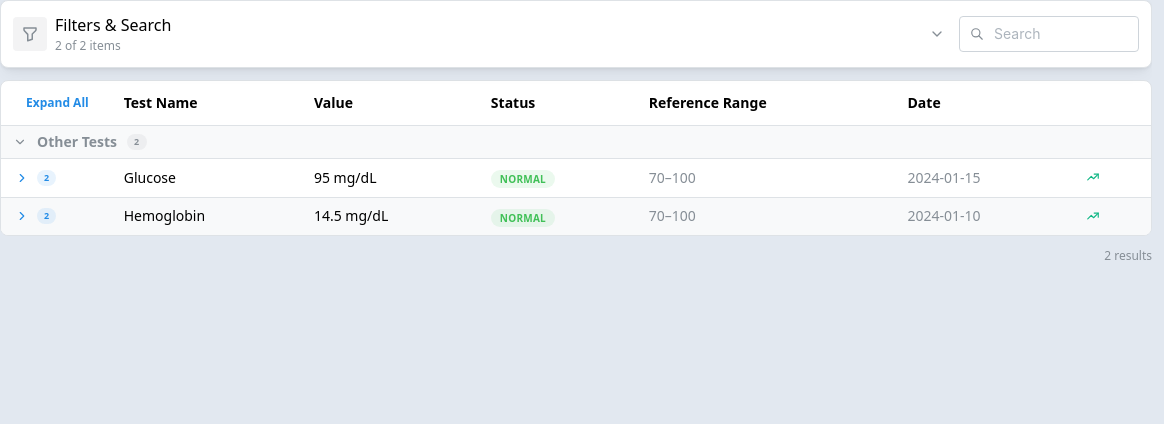
Test: LabResultsComponentTable › header button stays Collapse All after individually collapsing one test when expand-all is active
The image size is (1164, 424).
What coordinates should you click on to do the following:
click the button with test id "expand-all-btn"
I would click on:
 (57, 103)
Its box is [11,88,104,118].
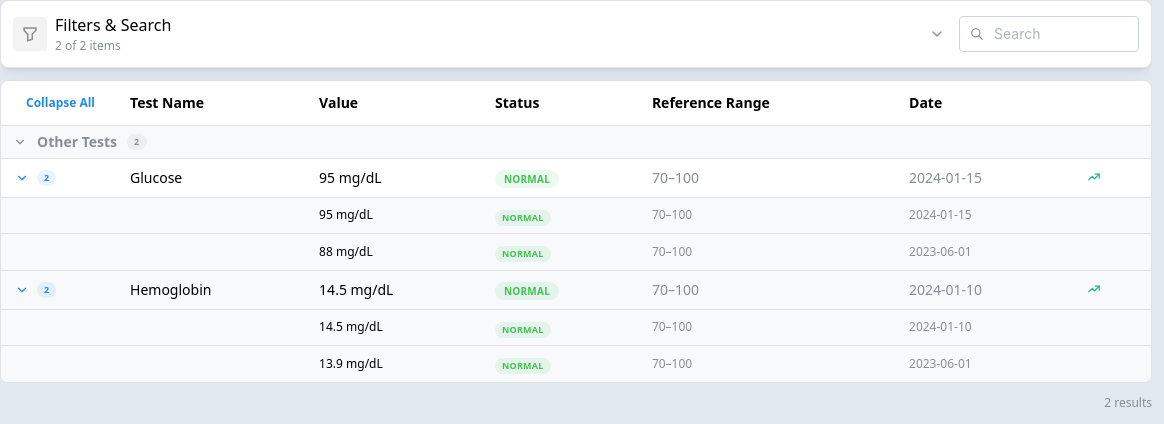
Collapse just Glucose — Hemoglobin remains expanded
What coordinates should you click on to do the following:
click the button with test id "expand-btn-glucose"
I would click on:
 (22, 178)
Its box is [11,167,33,189].
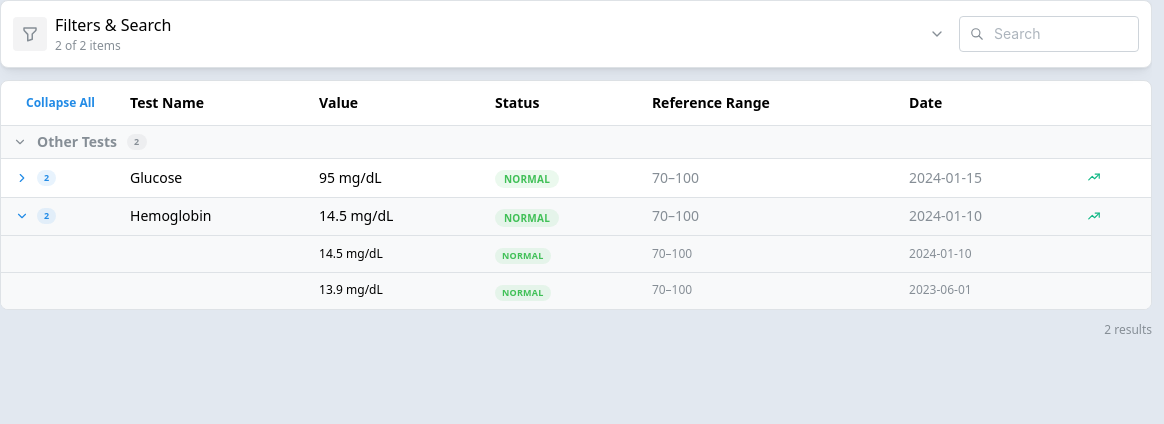
Expected: the button with test id "expand-all-btn" reads "Collapse All", [11,88,110,118]
Expected: the row with test id "history-row-3" is shown, [1,236,1151,272]
Expected: the row with test id "history-row-1" is gone
